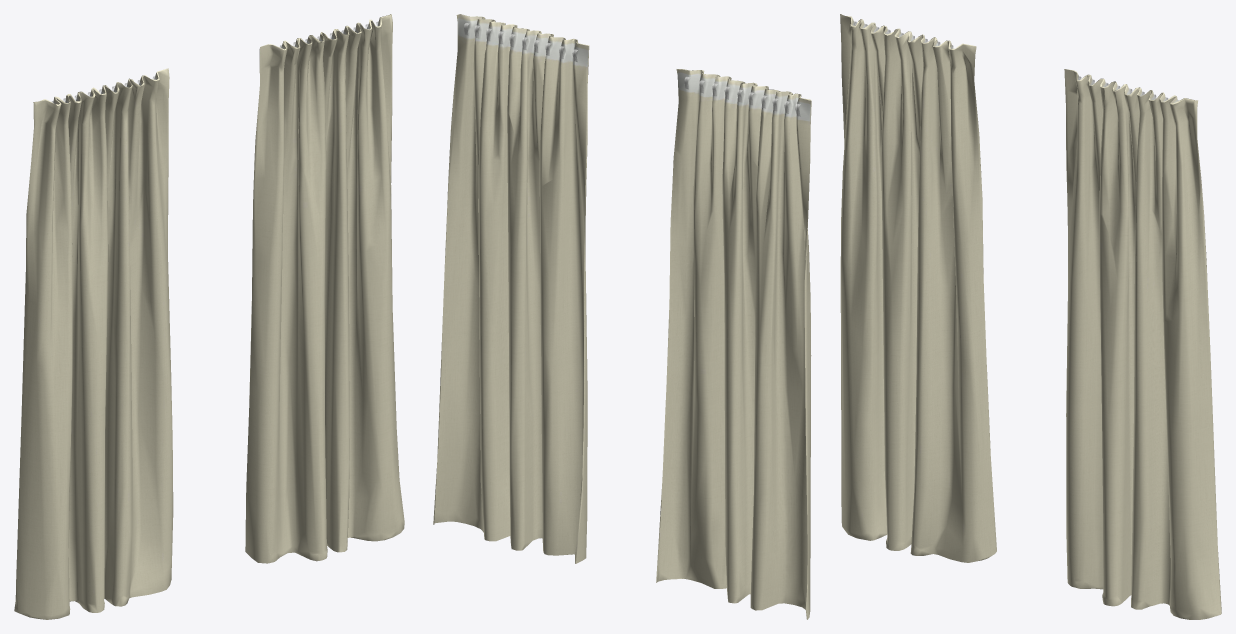
The model's file is LR-CURTAIN-A.glb.
3 renders of one model, left to right at view 1: azimuth 30°, elevation 25°; view 2: azimuth 150°, elevation 25°; view 3: azimuth 330°, elevation 25°, orthographic.
Visible parts, largest first — view 1: ASY_LPT01_80597171_S02_NV01, ASY_LPT02_80597171_S02_NV01; view 2: ASY_LPT01_80597171_S02_NV01, ASY_LPT02_80597171_S02_NV01; view 3: ASY_LPT01_80597171_S02_NV01, ASY_LPT02_80597171_S02_NV01.
Boxes of the visible parts, box(x1,y1,x2,y2) form: ASY_LPT01_80597171_S02_NV01: box(14, 68, 173, 619); ASY_LPT02_80597171_S02_NV01: box(245, 14, 404, 563); ASY_LPT01_80597171_S02_NV01: box(656, 69, 811, 619); ASY_LPT02_80597171_S02_NV01: box(433, 14, 589, 563); ASY_LPT01_80597171_S02_NV01: box(840, 14, 996, 562); ASY_LPT02_80597171_S02_NV01: box(1064, 69, 1221, 619).
Bounding box in the file's own units: 1.96 × 2.53 × 0.2092.
4 materials, 4 textured.
